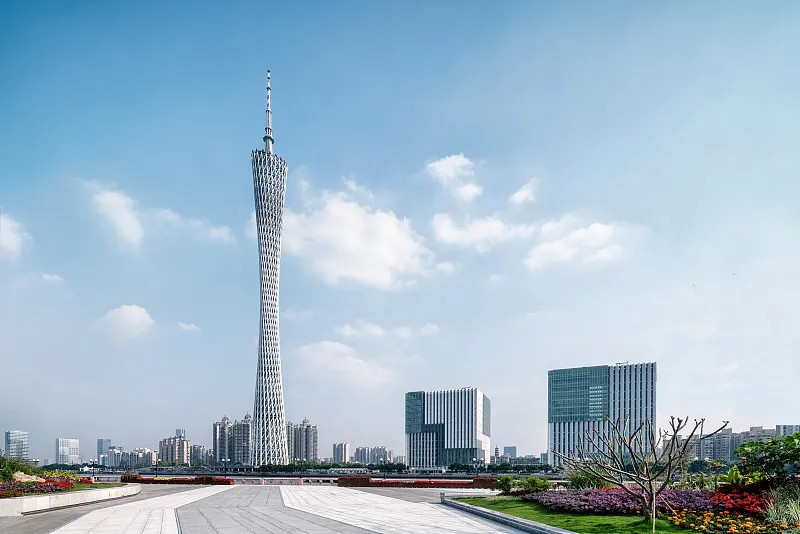Canton: (248, 67, 290, 466)
